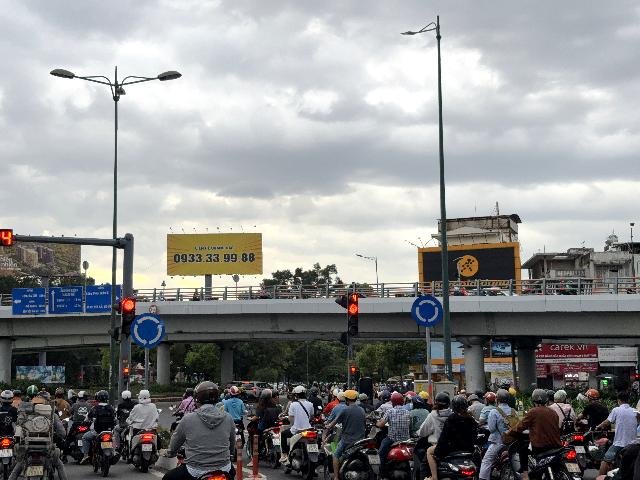noi-giao-nhau-chay-theo-vong-xuyen: (130, 312, 166, 348), (411, 295, 443, 327)
